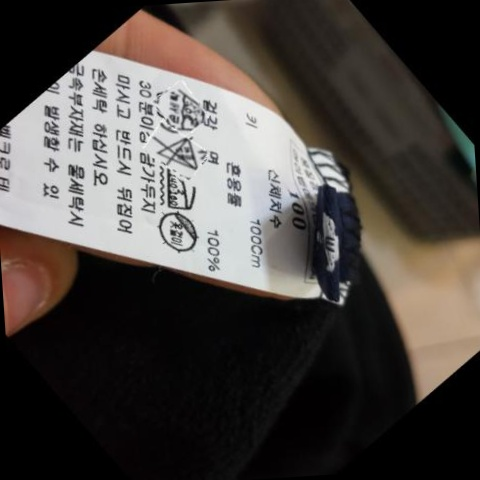hand_wash: (162, 84, 205, 132)
iron_medium: (164, 170, 202, 211)
line_dry_in_shade: (155, 207, 205, 256)
non_chlorine_bleach: (155, 134, 200, 171)
